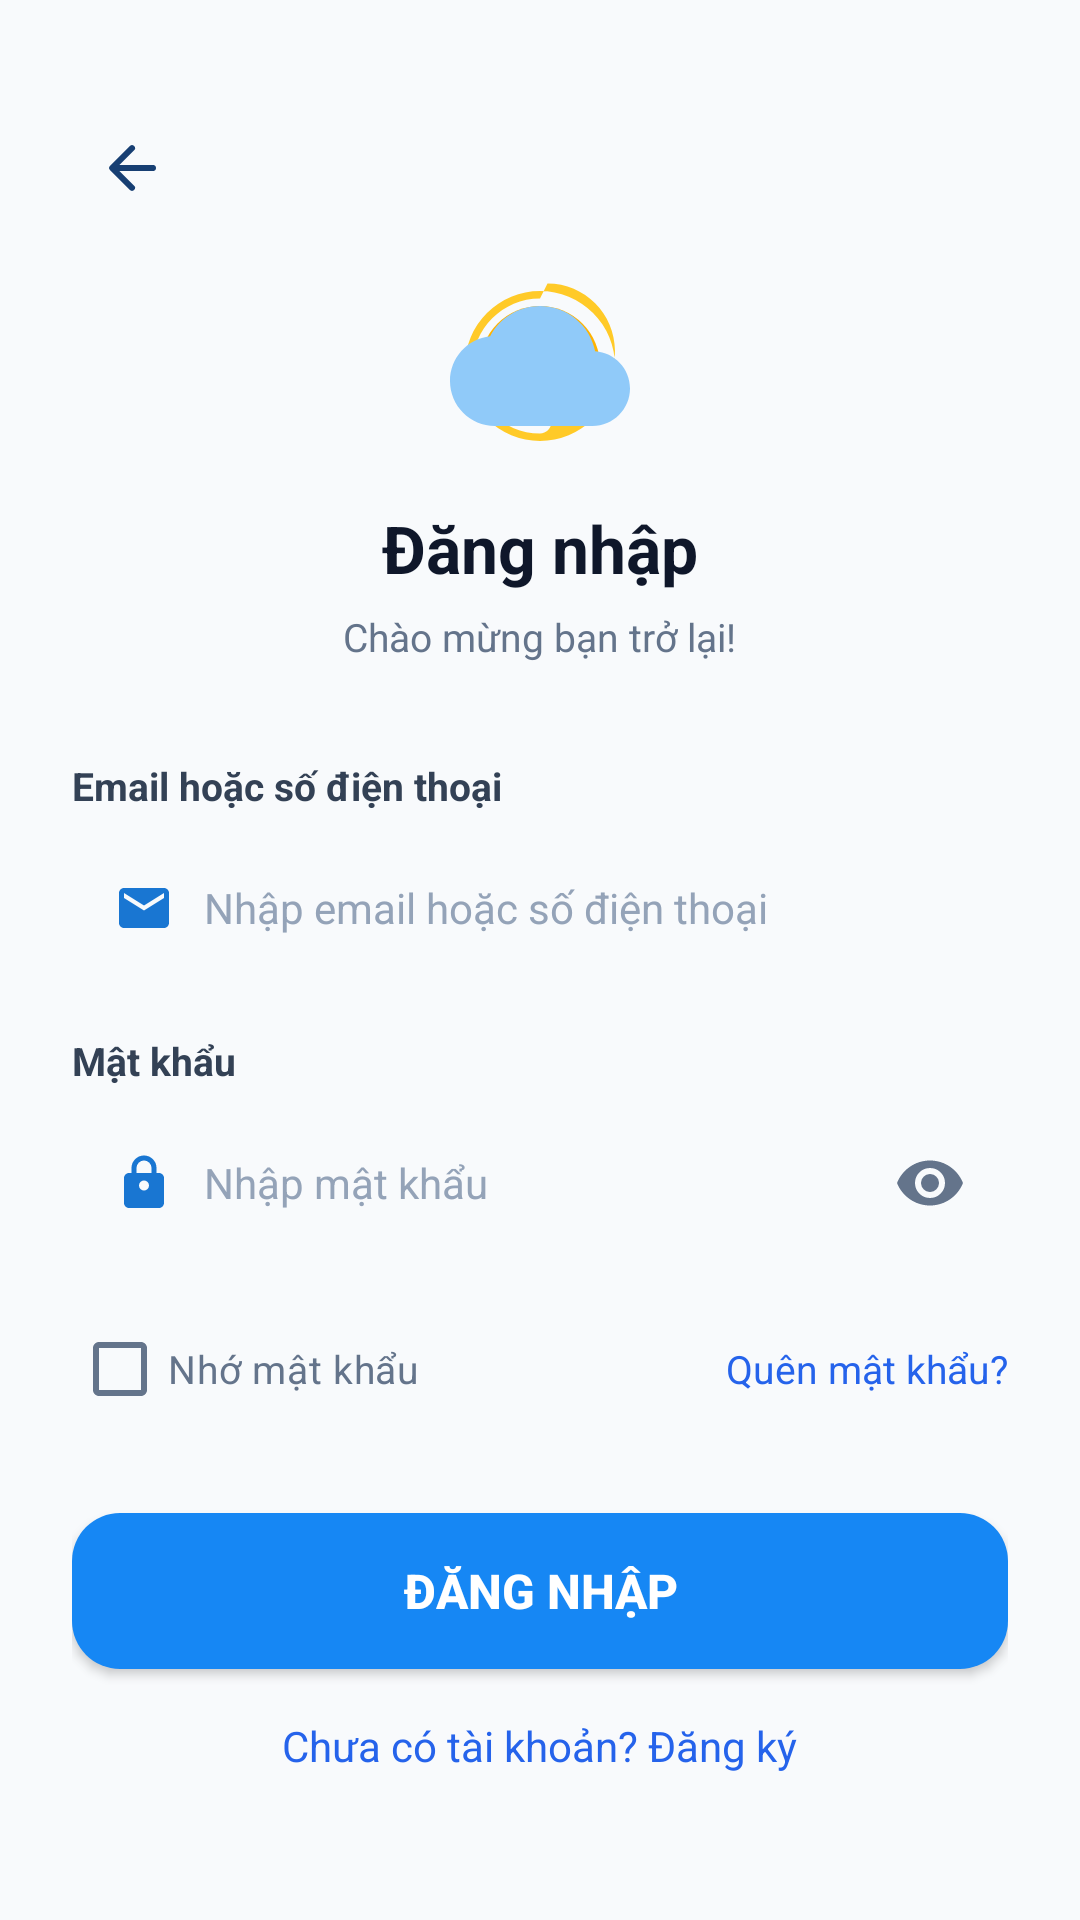

Where icons sit on this 1080px×1920px app screen, as (x1=x1, y1=y1, x2=x2, y2=y2):
Back: (x1=109, y1=145, x2=156, y2=191)
Lock icon: (x1=124, y1=1155, x2=164, y2=1208)
Show/Hide: (x1=897, y1=1160, x2=963, y2=1206)
